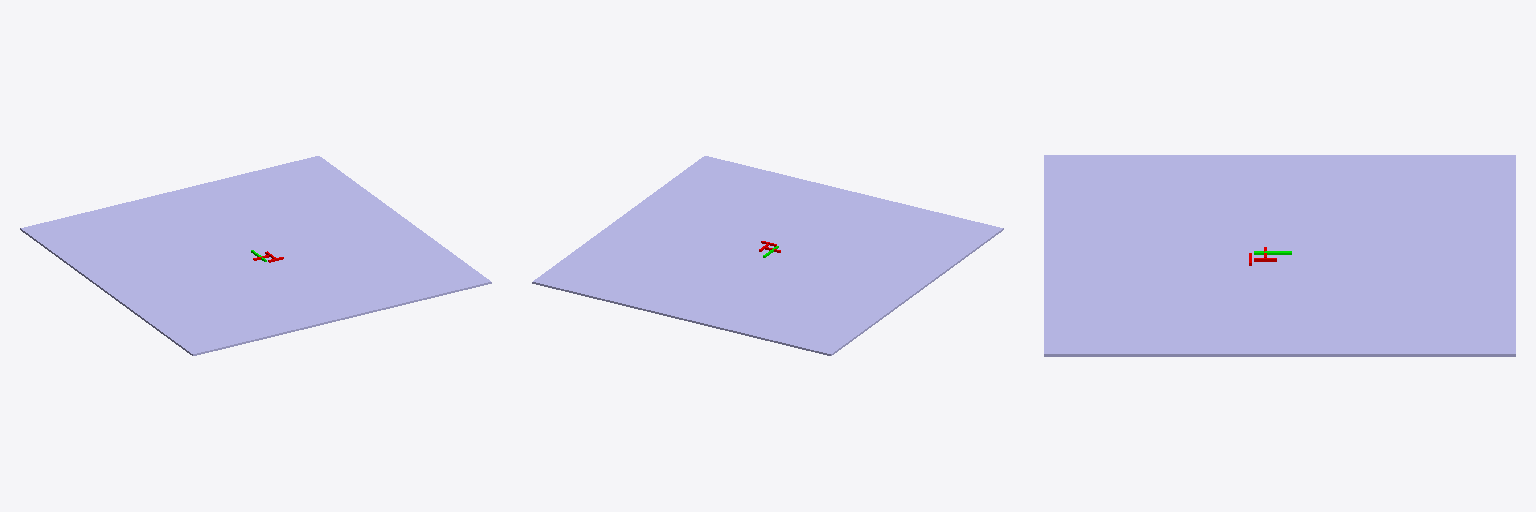
URDF robot description (simple_sliders):
<!-- created with Phobos 1.0.1 "Capricious Choutengan" --><robot name="simple_sliders">

    <link name="base_link">
      <inertial>
        <origin xyz="0 0 0" rpy="0 0 0"/>
        <mass value="0.001"/>
        <inertia ixx="0.001" ixy="0" ixz="0" iyy="0.001" iyz="0" izz="0.001"/>
      </inertial>
      <visual name="visual_box_base">
        <origin xyz="0 0 0" rpy="0 0 0"/>
        <geometry>
          <box size="32.0 32.0 0.2"/>
        </geometry>
        <material name="lavender"/>
      </visual>
      <collision name="collision_box_base">
        <origin xyz="0 0 0" rpy="0 0 0"/>
        <geometry>
          <box size="32.0 32.0 0.2"/>
        </geometry>
      </collision>
    </link>

    <link name="goal">
      <inertial>
        <origin xyz="0 0 0" rpy="0 0 0"/>
        <mass value="0.001"/>
        <inertia ixx="0.001" ixy="0" ixz="0" iyy="0.001" iyz="0" izz="0.001"/>
      </inertial>
      <visual name="visual_box_0_joint_0.001">
        <origin xyz="0 0 0" rpy="0 0 0"/>
        <geometry>
          <box size="0.2 0.2 1.6"/>
        </geometry>
        <material name="green_semitransparent"/>
      </visual>
    </link>

    <link name="link_0_joint_0">
      <inertial>
        <origin xyz="0 0 0" rpy="0 0 0"/>
        <mass value="0.001"/>
        <inertia ixx="0.001" ixy="0" ixz="0" iyy="0.001" iyz="0" izz="0.001"/>
      </inertial>
      <visual name="visual_box_0_joint_0">
        <origin xyz="0 0 0" rpy="0 0 0"/>
        <geometry>
          <box size="0.2 0.2 1.6"/>
        </geometry>
        <material name="green"/>
      </visual>
      <collision name="collision_box_0_joint_0">
        <origin xyz="0 0 0" rpy="0 0 0"/>
        <geometry>
          <box size="0.2 0.2 1.6"/>
        </geometry>
      </collision>
    </link>


    <link name="link_0_joint_1">
      <inertial>
        <origin xyz="0 0 0" rpy="0 0 0"/>
        <mass value="0.001"/>
        <inertia ixx="0.001" ixy="0" ixz="0" iyy="0.001" iyz="0" izz="0.001"/>
      </inertial>
      <visual name="visual_box_0_joint_0">
        <origin xyz="0 0 0" rpy="0 0 0"/>
        <geometry>
          <box size="0.2 0.2 1.6"/>
        </geometry>
        <material name="green"/>
      </visual>
      <collision name="collision_box_0_joint_0">
        <origin xyz="0 0 0" rpy="0 0 0"/>
        <geometry>
          <box size="0.2 0.2 1.6"/>
        </geometry>
      </collision>
    </link>

    <link name="link_1_joint_0">
      <inertial>
        <origin xyz="0 0 0" rpy="0 0 0"/>
        <mass value="0.001"/>
        <inertia ixx="0.001" ixy="0" ixz="0" iyy="0.001" iyz="0" izz="0.001"/>
      </inertial>
      <visual name="visual_box_1_joint_0">
        <origin xyz="0 0 0" rpy="0 0 0"/>
        <geometry>
          <box size="0.2 0.2 1.6"/>
        </geometry>
        <material name="red"/>
      </visual>
      <collision name="collision_box_1_joint_0">
        <origin xyz="0 0 0" rpy="0 0 0"/>
        <geometry>
          <box size="0.2 0.2 1.6"/>
        </geometry>
      </collision>
    </link>

    <link name="link_2_joint_0">
      <inertial>
        <origin xyz="0 0 0" rpy="0 0 0"/>
        <mass value="0.001"/>
        <inertia ixx="0.001" ixy="0" ixz="0" iyy="0.001" iyz="0" izz="0.001"/>
      </inertial>
      <visual name="visual_box_2_joint_0">
        <origin xyz="0 0 0" rpy="0 0 0"/>
        <geometry>
          <box size="0.2 0.2 1.6"/>
        </geometry>
        <material name="red"/>
      </visual>
      <collision name="collision_box_2_joint_0">
        <origin xyz="0 0 0" rpy="0 0 0"/>
        <geometry>
          <box size="0.2 0.2 1.6"/>
        </geometry>
      </collision>
    </link>

    <link name="link_3_joint_0">
      <inertial>
        <origin xyz="0 0 0" rpy="0 0 0"/>
        <mass value="0.001"/>
        <inertia ixx="0.001" ixy="0" ixz="0" iyy="0.001" iyz="0" izz="0.001"/>
      </inertial>
      <visual name="visual_box_3_joint_0">
        <origin xyz="0 0 0" rpy="0 0 0"/>
        <geometry>
          <box size="0.2 0.2 1.6"/>
        </geometry>
        <material name="red"/>
      </visual>
      <collision name="collision_box_3_joint_0">
        <origin xyz="0 0 0" rpy="0 0 0"/>
        <geometry>
          <box size="0.2 0.2 1.6"/>
        </geometry>
      </collision>
    </link>

    <joint name="goal" type="fixed">
      <origin xyz="0 -1.0 0.2" rpy="1.5708 0 0"/>
      <parent link="base_link"/>
      <child link="goal"/>
      <limit effort="0" velocity="0"/>
    </joint>

    <joint name="link_0_joint_0" type="prismatic">
      <origin xyz="0 0 0.2" rpy="1.5708 0 0"/>
      <parent link="base_link"/>
      <child link="link_0_joint_0"/>
      <axis xyz="0 0 1.0"/>
      <limit lower="0" upper="1.0" effort="0" velocity="0"/>
    </joint>

  <joint name="link_0_joint_1" type="prismatic">
     <origin xyz="0 0 0.2" rpy="0 0 0"/>
      <parent link="link_0_joint_0"/>
      <child link="link_0_joint_1"/>
      <axis xyz="0 1 0"/>
      <limit lower="0" upper="1.0" effort="0" velocity="0"/>
    </joint>

    <joint name="link_1_joint_0" type="prismatic">
      <origin xyz="0 -1.0 0.2" rpy="0 1.5708 0"/>
      <parent link="base_link"/>
      <child link="link_1_joint_0"/>
      <axis xyz="0 0 1.0"/>
      <limit lower="0" upper="1.0" effort="0" velocity="0"/>
    </joint>

    <joint name="link_2_joint_0" type="prismatic">
      <origin xyz="1.0 -1.0 0.2" rpy="1.5708 0 0"/>
      <parent link="base_link"/>
      <child link="link_2_joint_0"/>
      <axis xyz="0 0 1.0"/>
      <limit lower="0" upper="1.0" effort="0" velocity="0"/>
    </joint>

    <joint name="link_3_joint_0" type="prismatic">
      <origin xyz="1.0 -2.0 0.2" rpy="0 1.5708 0"/>
      <parent link="base_link"/>
      <child link="link_3_joint_0"/>
      <axis xyz="0 0 1.0"/>
      <limit lower="0" upper="1.0" effort="0" velocity="0"/>
    </joint>

    <material name="green">
      <color rgba="0 1.0 0 1.0"/>
    </material>

    <material name="green_semitransparent">
      <color rgba="0 1.0 0 0.25"/>
    </material>

    <material name="lavender">
      <color rgba="0.8 0.8 1.0 1.0"/>
    </material>

    <material name="red">
      <color rgba="1.0 0 0 1.0"/>
    </material>

  </robot>

--- What the picture shows (computed from the rendered views, not written in the file) ---
3 views of the same robot in one strip: view 1: azimuth 30°, elevation 25°; view 2: azimuth 150°, elevation 25°; view 3: azimuth 270°, elevation 25° (orthographic).
Robot: simple_sliders — 7 links, 6 joints (5 prismatic, 1 fixed); root link base_link; default pose: all joints at 0.
Visible links, largest first — view 1: base_link; view 2: base_link; view 3: base_link.
Link boxes in pixels (x1,y1,x2,y2): base_link: (20,156,491,355); base_link: (532,156,1003,355); base_link: (1044,155,1515,356).
Size in the robot's own frame: 32 by 32 by 0.4 metres.
Geometry: primitives only (box / cylinder / sphere), no mesh files.
